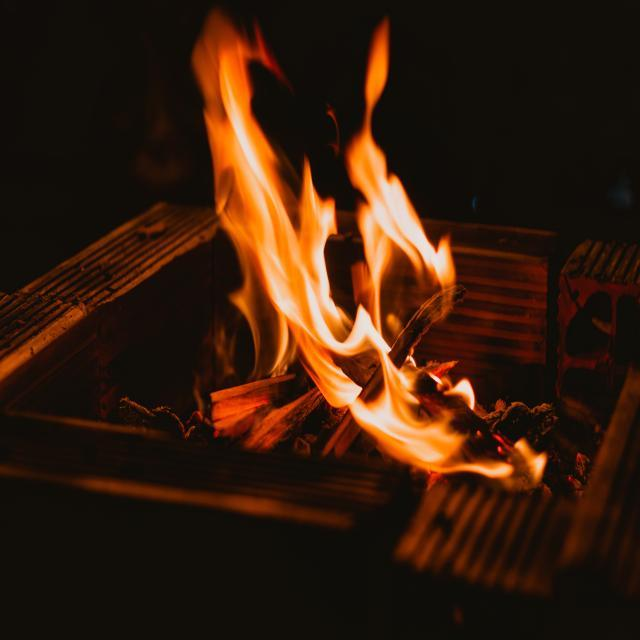Fire: (154, 0, 562, 513)
